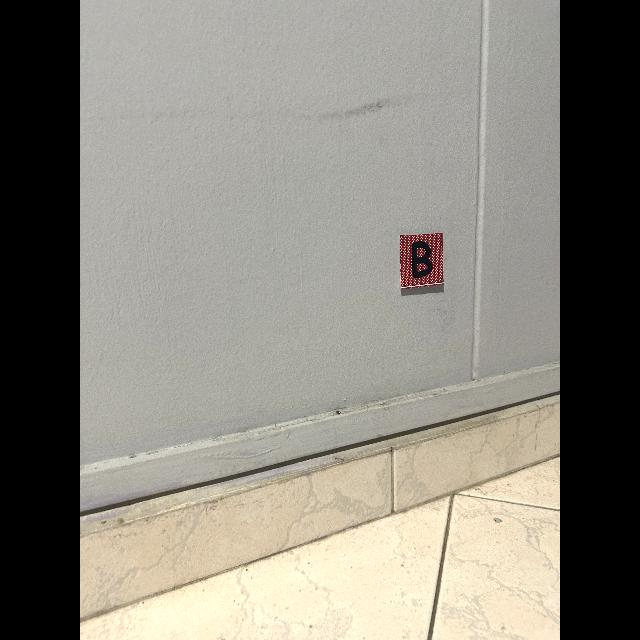B: (412, 241, 433, 278)
